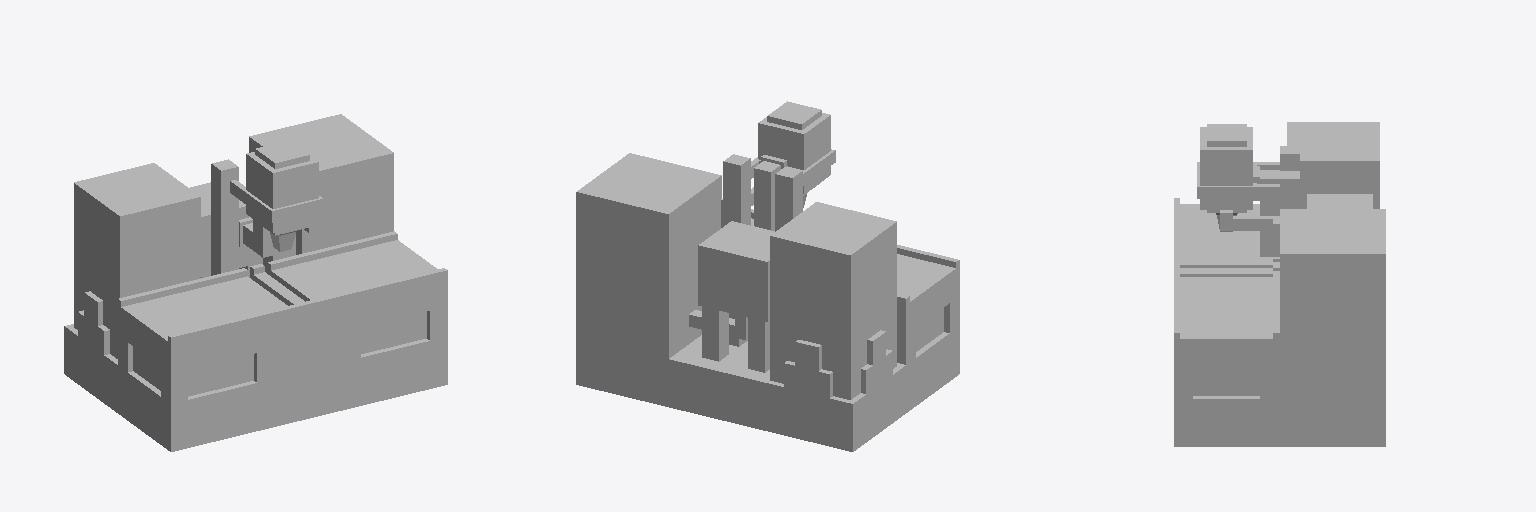
Rendered from bottling_machine.obj.
3 renders of one model, left to right at view 1: azimuth 30°, elevation 25°; view 2: azimuth 150°, elevation 25°; view 3: azimuth 270°, elevation 25°, orthographic.
Visible parts, largest first — view 1: base, conveyors, glass; view 2: base, glass, conveyors; view 3: base, conveyors, glass.
Part boxes in pixels (bbox=[...]): base: bbox=[64, 114, 447, 451]; conveyors: bbox=[121, 240, 436, 352]; glass: bbox=[246, 152, 318, 232]; base: bbox=[576, 101, 959, 451]; glass: bbox=[758, 113, 830, 193]; conveyors: bbox=[751, 218, 955, 313]; base: bbox=[1174, 122, 1385, 446]; conveyors: bbox=[1180, 204, 1272, 350]; glass: bbox=[1200, 127, 1252, 209].
Bounding box in the file's own units: 3 × 2.56 × 2.